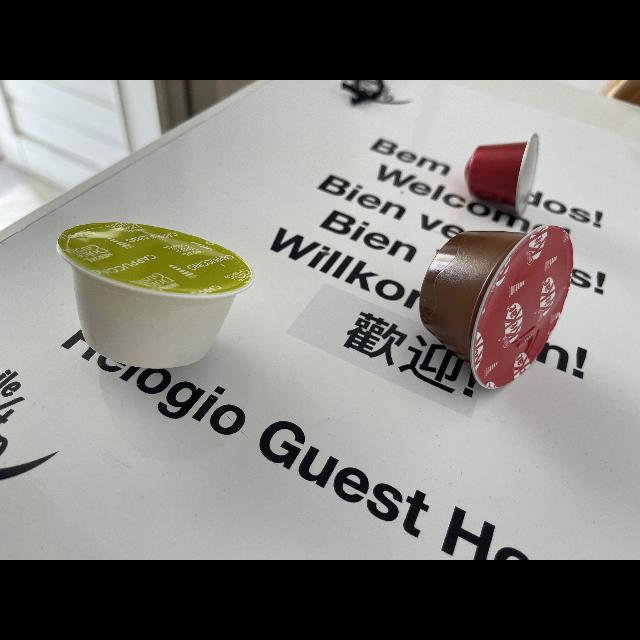intact_capsule: (50, 217, 266, 383), (412, 222, 576, 402), (456, 126, 552, 224)
